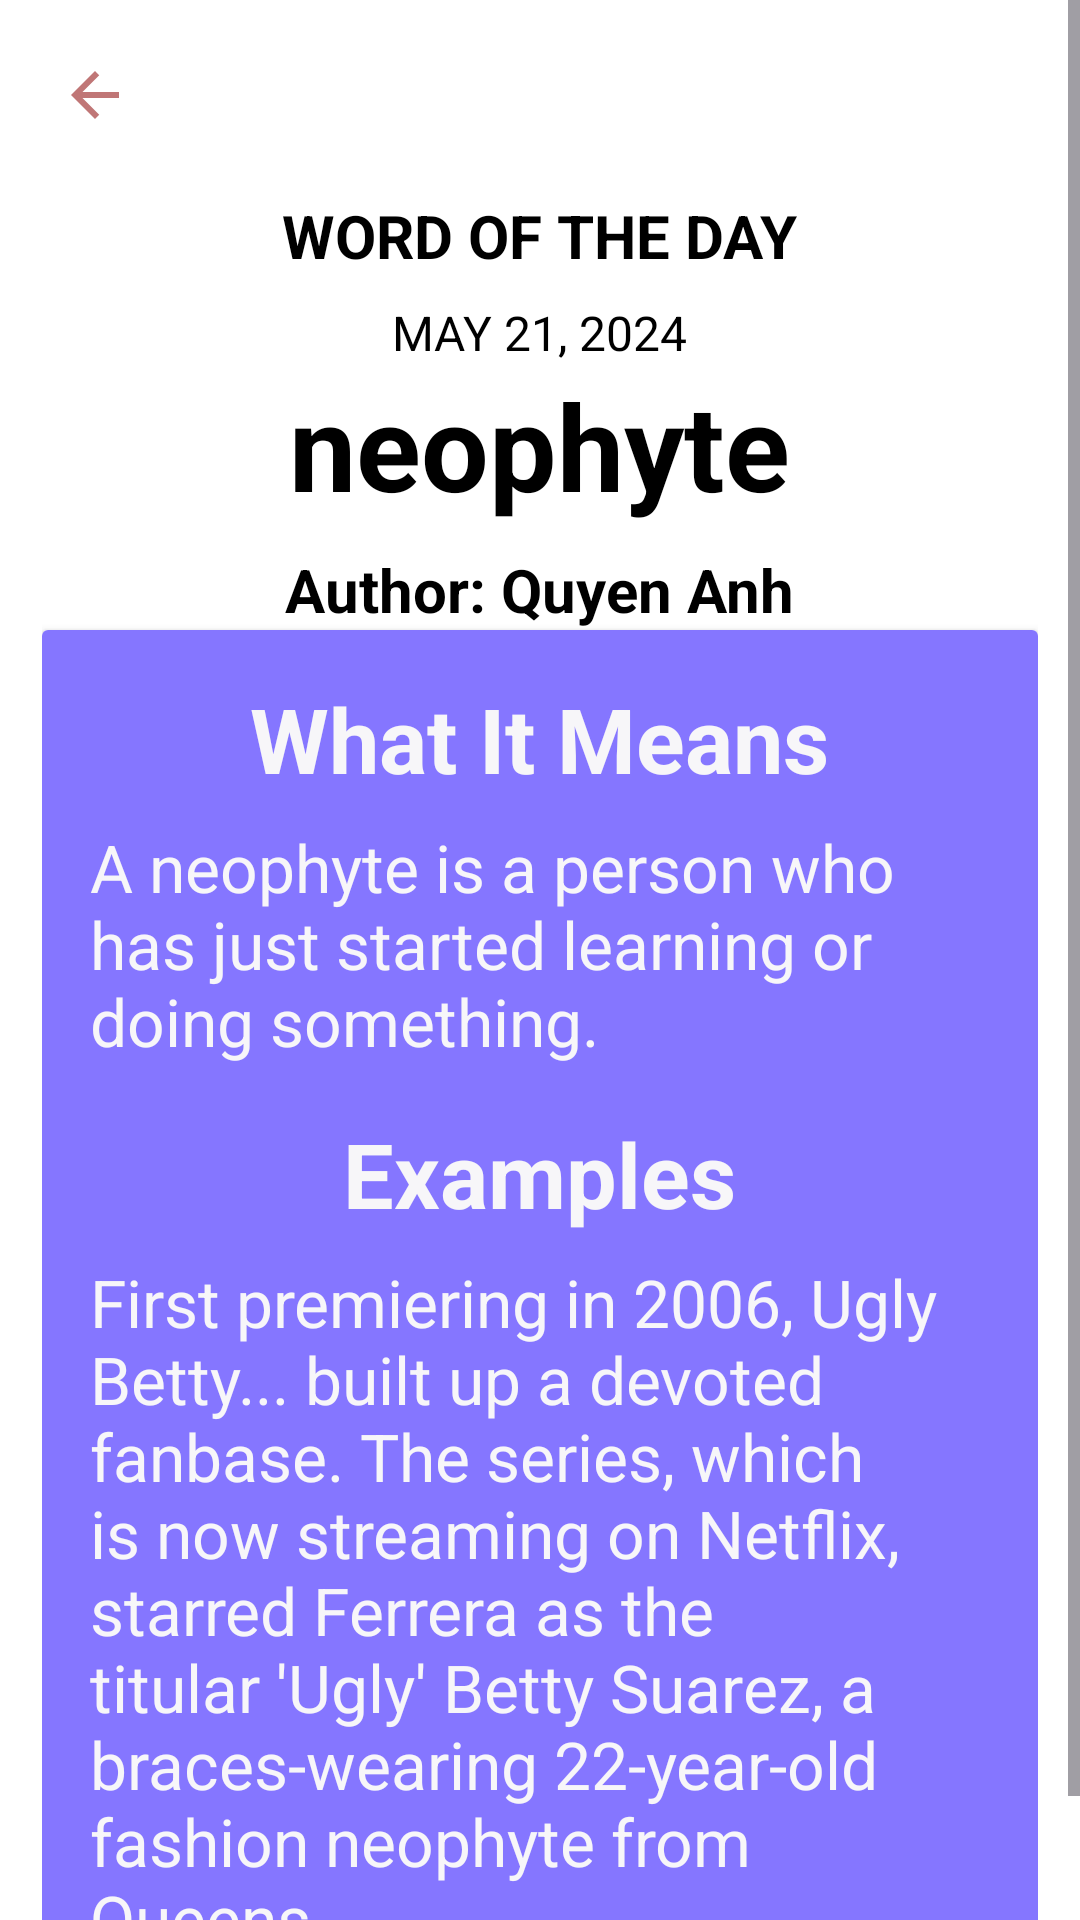

Named icons in this screenshot (1080x1920) and their bounding boxes, (x1, y1, x2, y2):
back: (71, 71, 119, 119)
